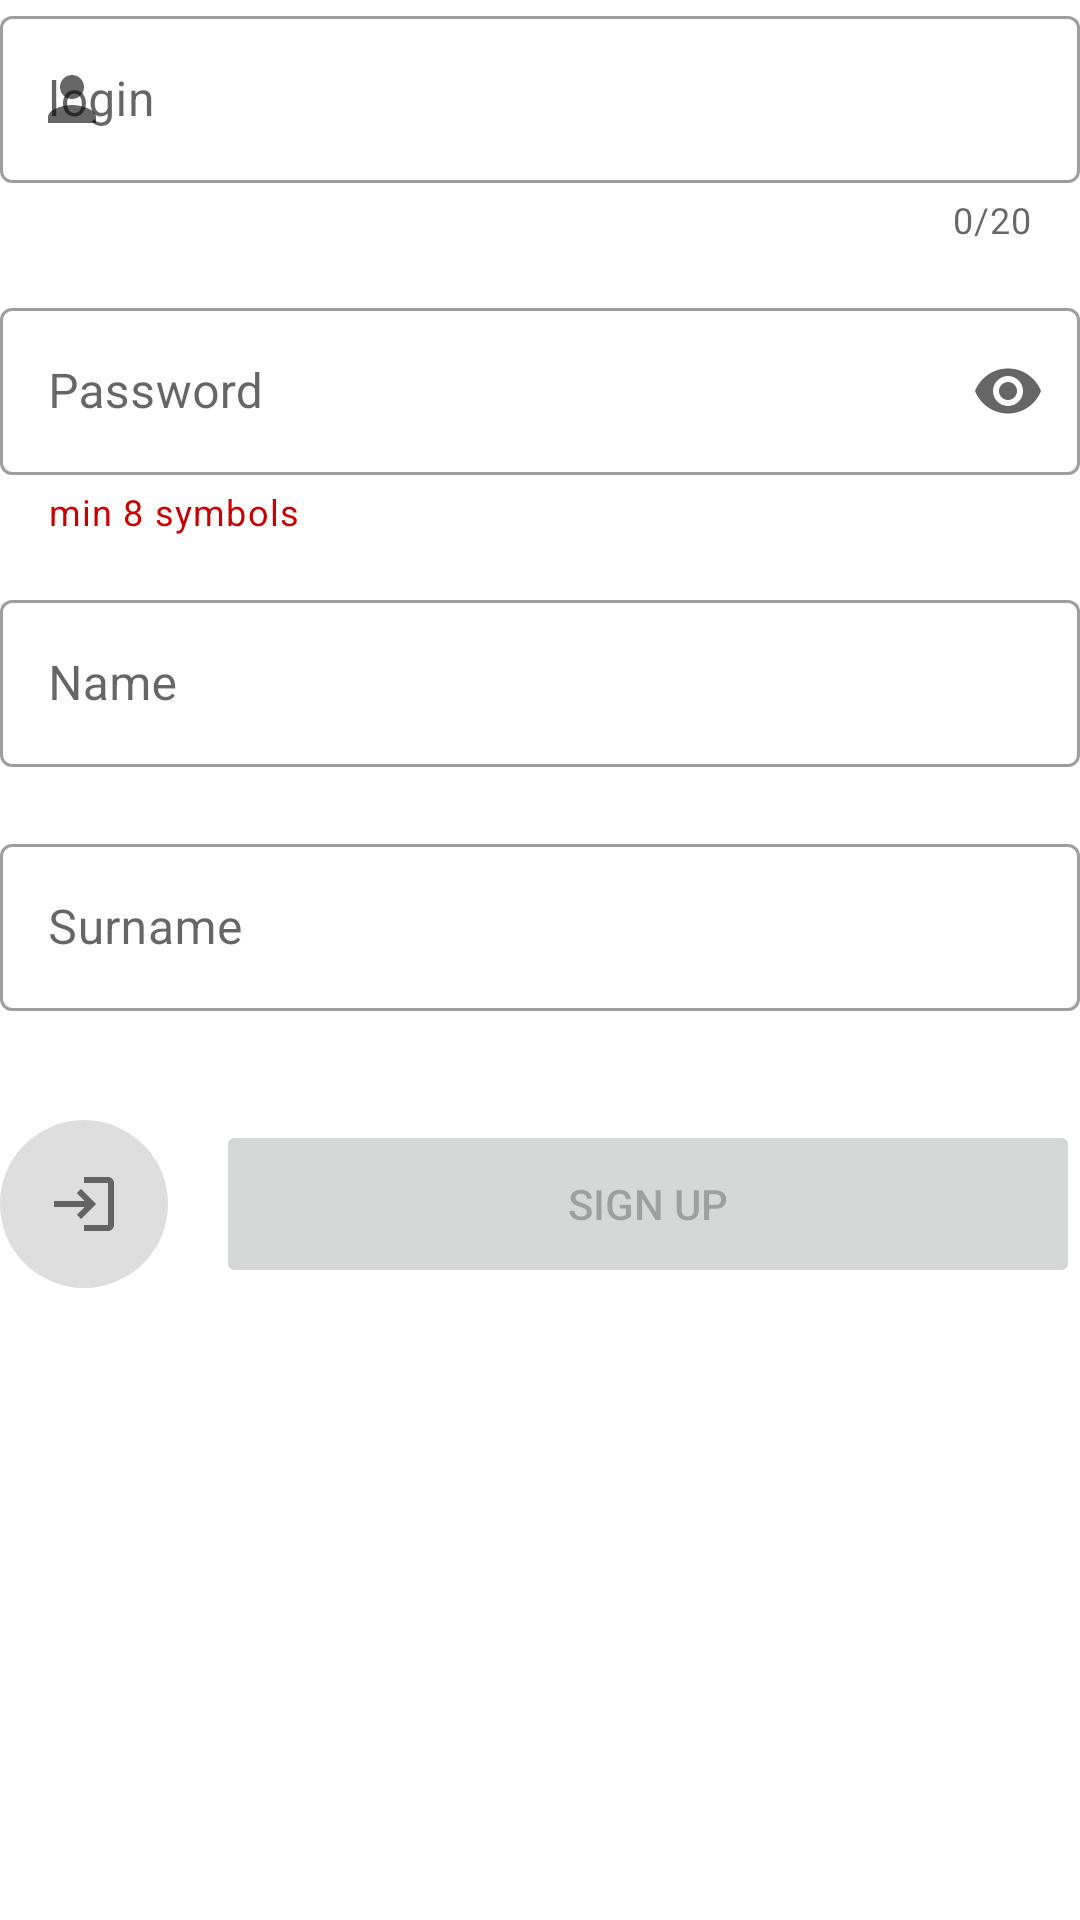

Where icons sit on this 1080w x 1920h app screen, as (x1, y1, x2, y2):
sign in: (0, 1120, 168, 1288)
